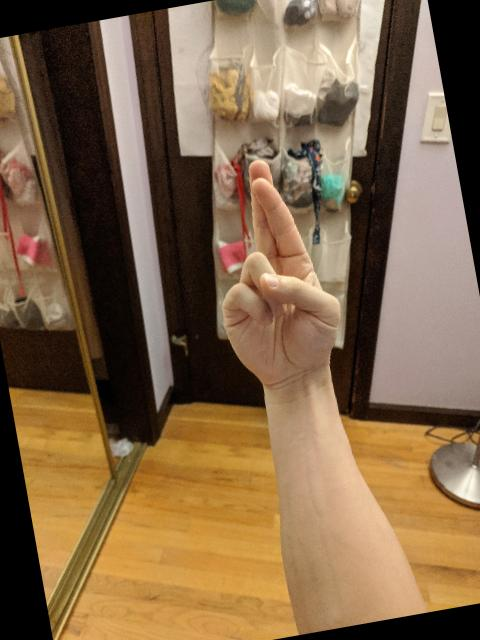R: (190, 143, 358, 400)
